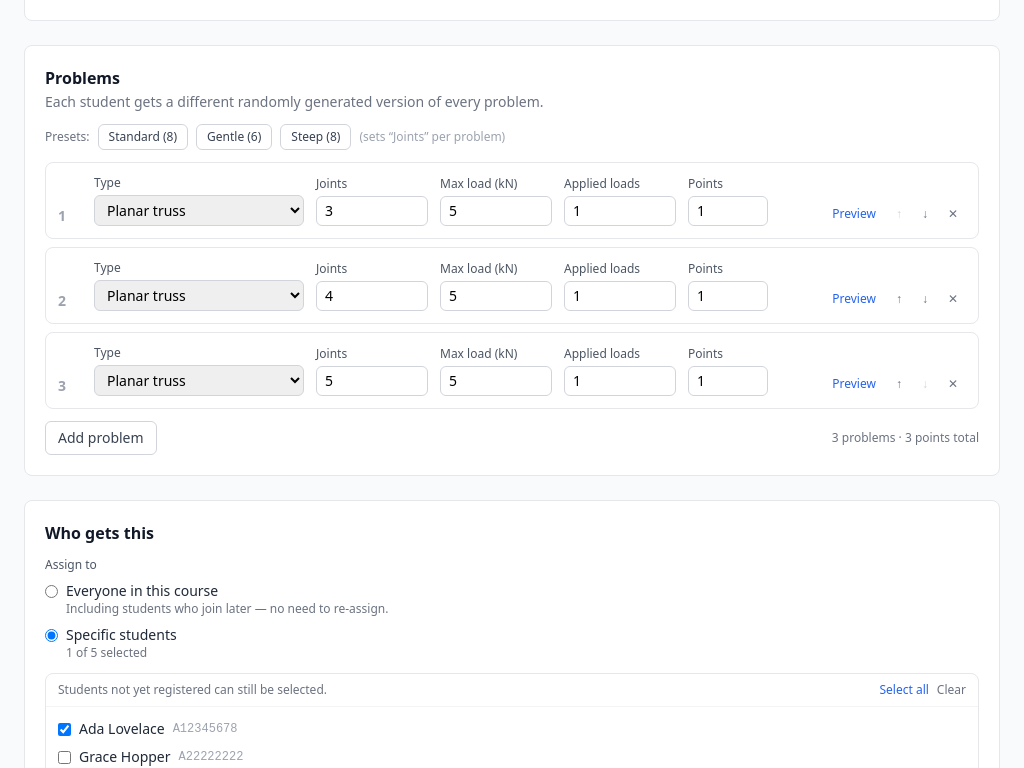
Test: assignment builder › refuses to publish an assignment with no problems
The image size is (1024, 768).
(page scrolled)
Expected: the text "3 problems · 3 points total" is shown, [832, 430, 979, 446]
Click the button named "remove problem 3" at (953, 384), box [940, 372, 966, 396]
(page scrolled)
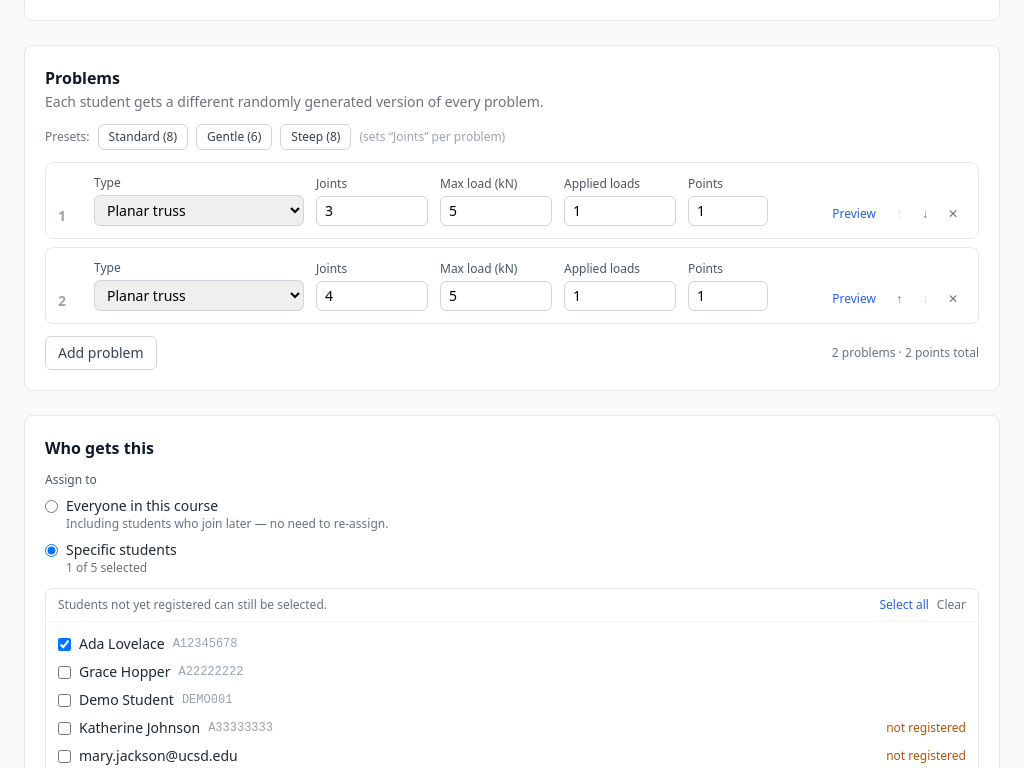
Click the button named "remove problem 2" at (953, 299), box [940, 287, 966, 311]
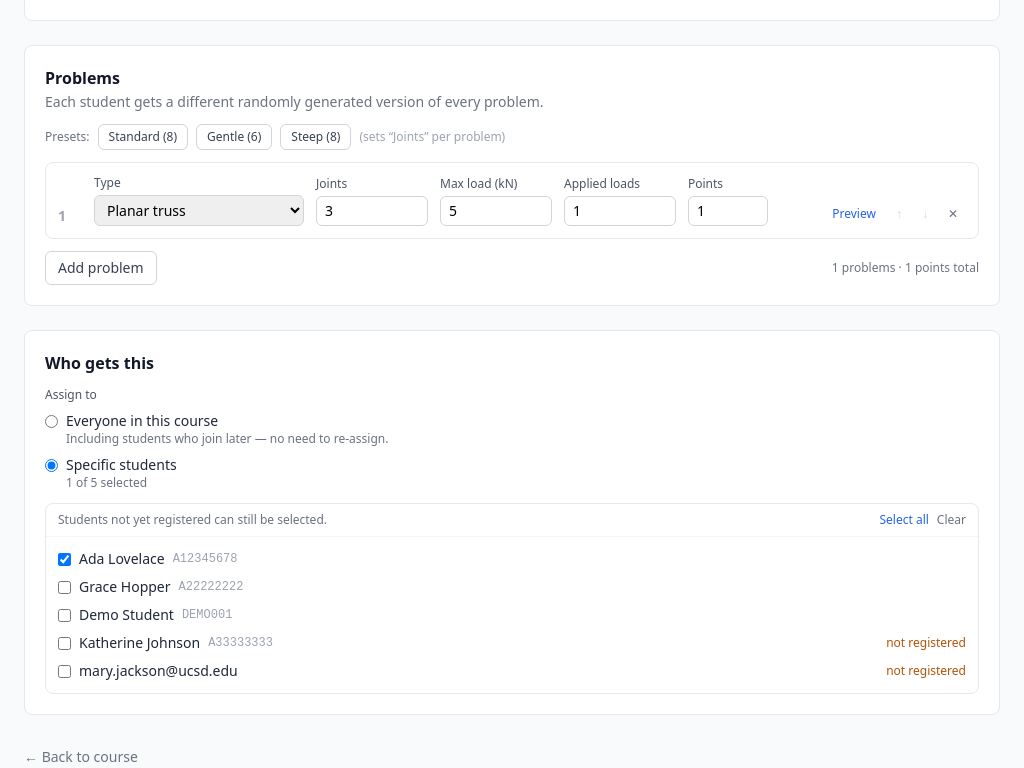
Click the button named "remove problem 1" at (953, 214), box [940, 202, 966, 226]
(page scrolled)
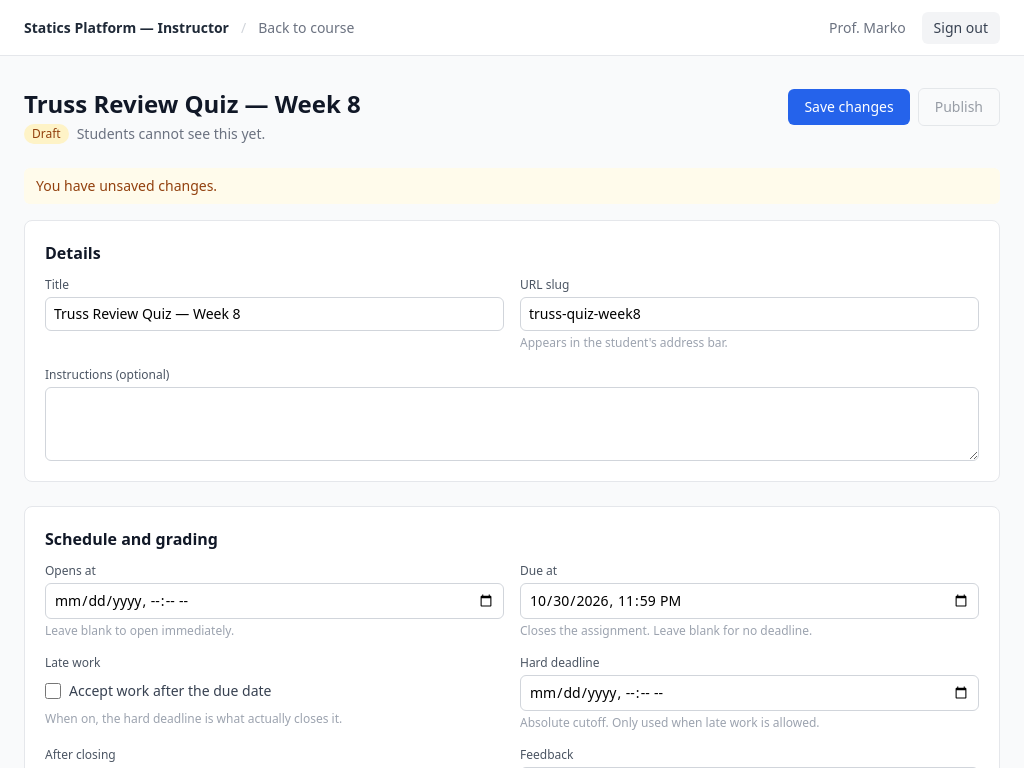
Expected: the button "Publish" is disabled, [918, 88, 1000, 126]
